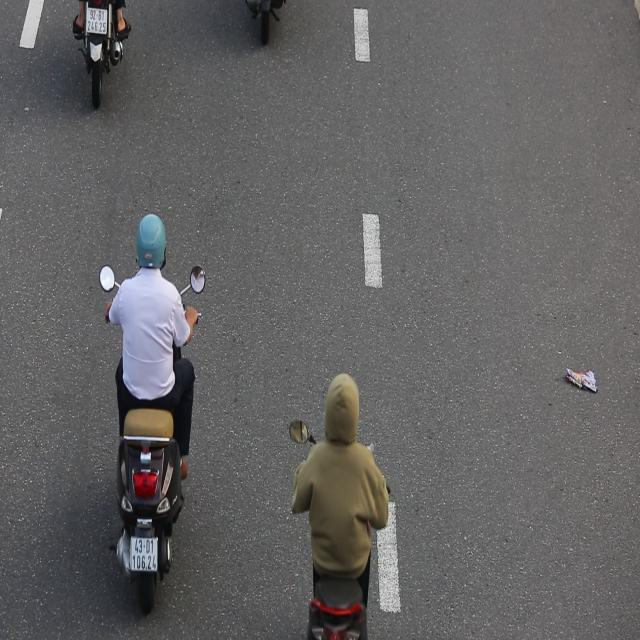motorbike: (99, 197, 209, 617)
